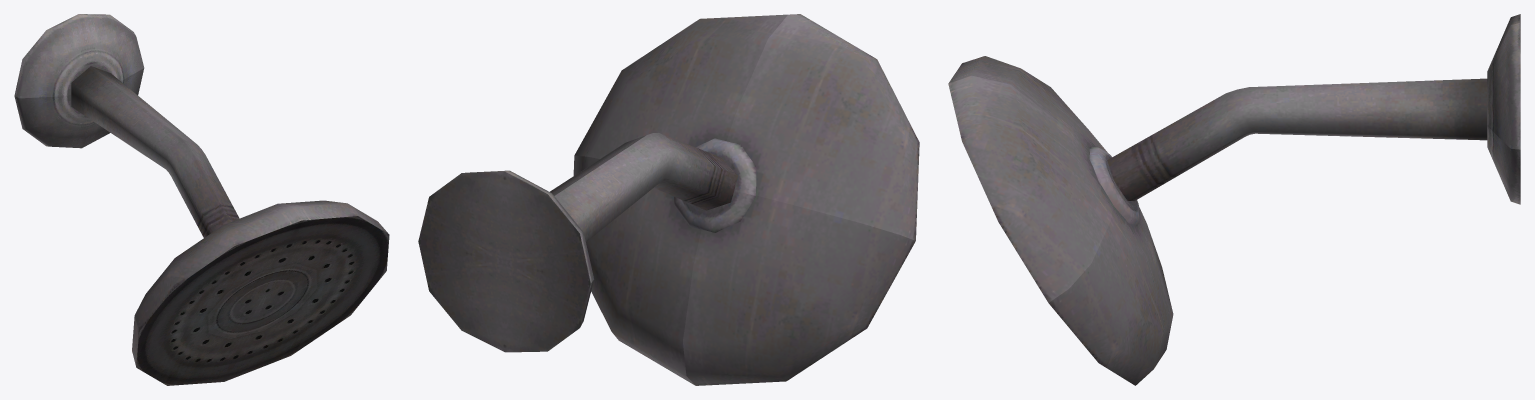
File: shower_nozzle.dae
The picture shows the model from 3 angles, left to right: view 1: azimuth 30°, elevation 25°; view 2: azimuth 150°, elevation 25°; view 3: azimuth 270°, elevation 25°; orthographic projection. The views are drawn at different scales.
Visible parts, largest first — view 1: shower_nozzle; view 2: shower_nozzle; view 3: shower_nozzle.
Boxes of the visible parts, bbox=[...] form: shower_nozzle: bbox=[14, 14, 389, 385]; shower_nozzle: bbox=[418, 14, 919, 385]; shower_nozzle: bbox=[948, 14, 1520, 385].
Size of the model in its own units: 6.4 by 6.51 by 9.9.
